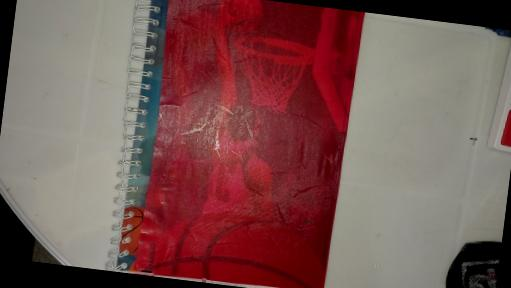notebook: (103, 0, 357, 288)
